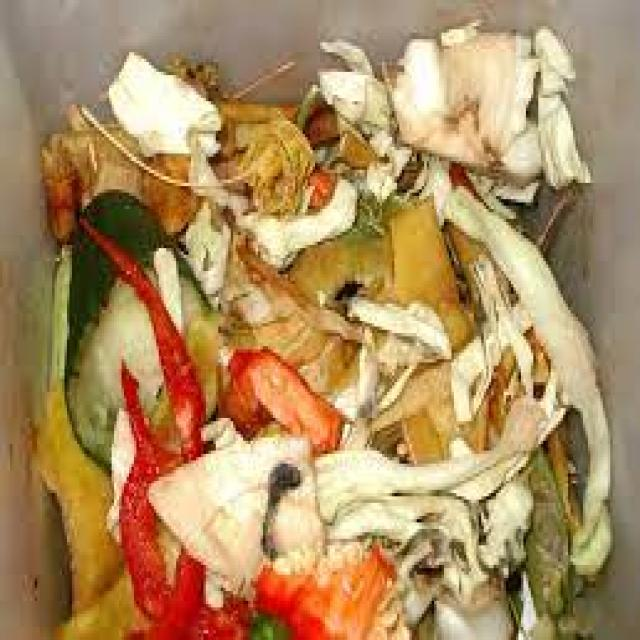Organik: (0, 5, 640, 640), (50, 165, 208, 489)
